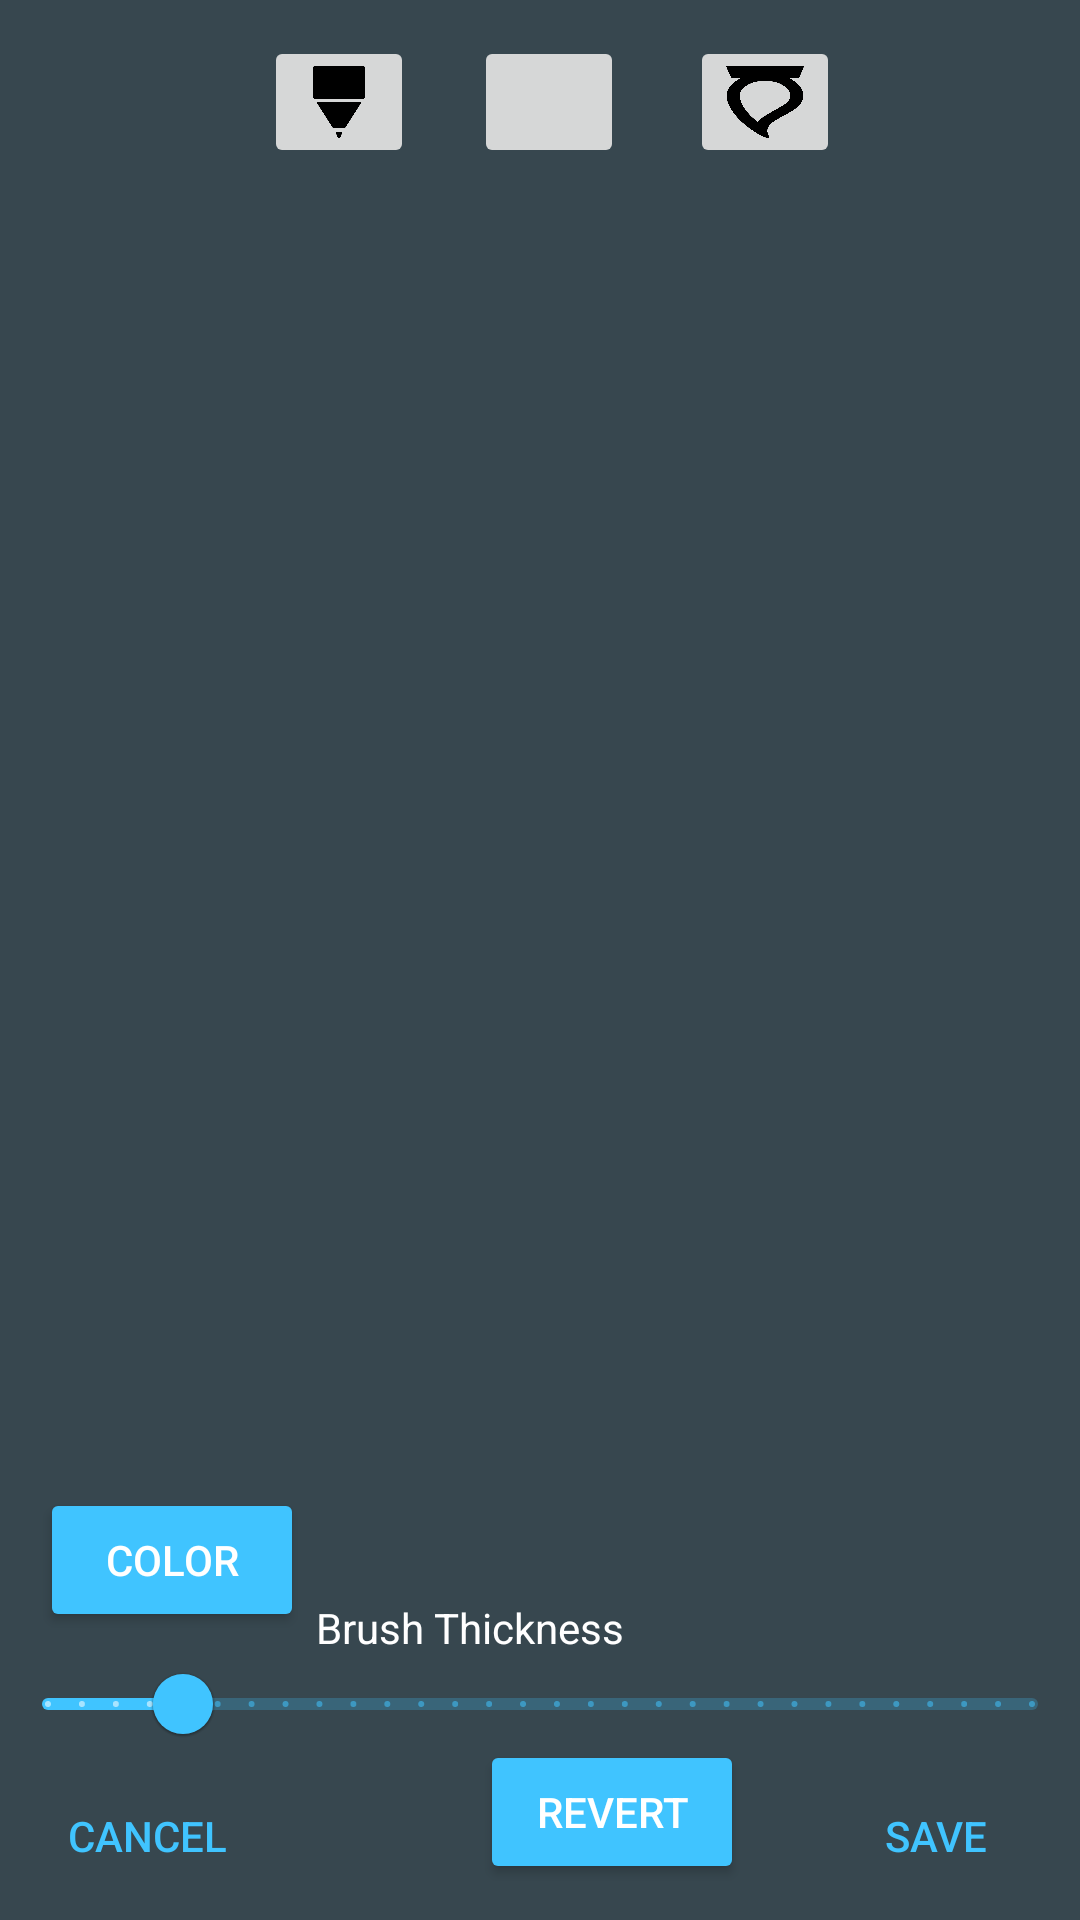

Icon click points for this 1080x1920 phone screenshot, format (x=x, y=y):
pen tip: (x=339, y=102)
